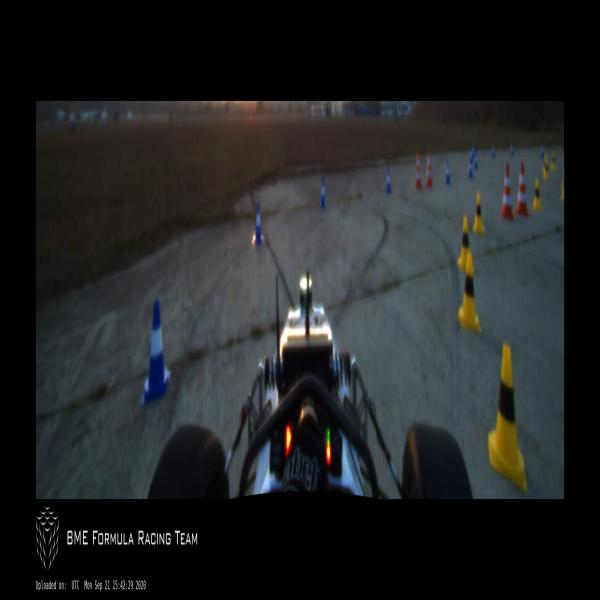blue_cone: (141, 300, 170, 401), (252, 202, 264, 245), (320, 177, 327, 207), (386, 168, 392, 194), (445, 160, 451, 183), (468, 158, 473, 178), (474, 151, 479, 169), (540, 143, 544, 158), (492, 143, 496, 157), (511, 142, 514, 156)
large_orange_cone: (515, 162, 529, 217), (501, 162, 513, 220), (415, 150, 423, 189), (426, 150, 433, 188)
yellow_cone: (488, 346, 528, 493), (459, 254, 482, 334), (457, 217, 469, 269), (473, 192, 485, 236), (532, 178, 542, 211), (560, 174, 564, 200), (544, 155, 548, 180), (551, 150, 556, 170)
